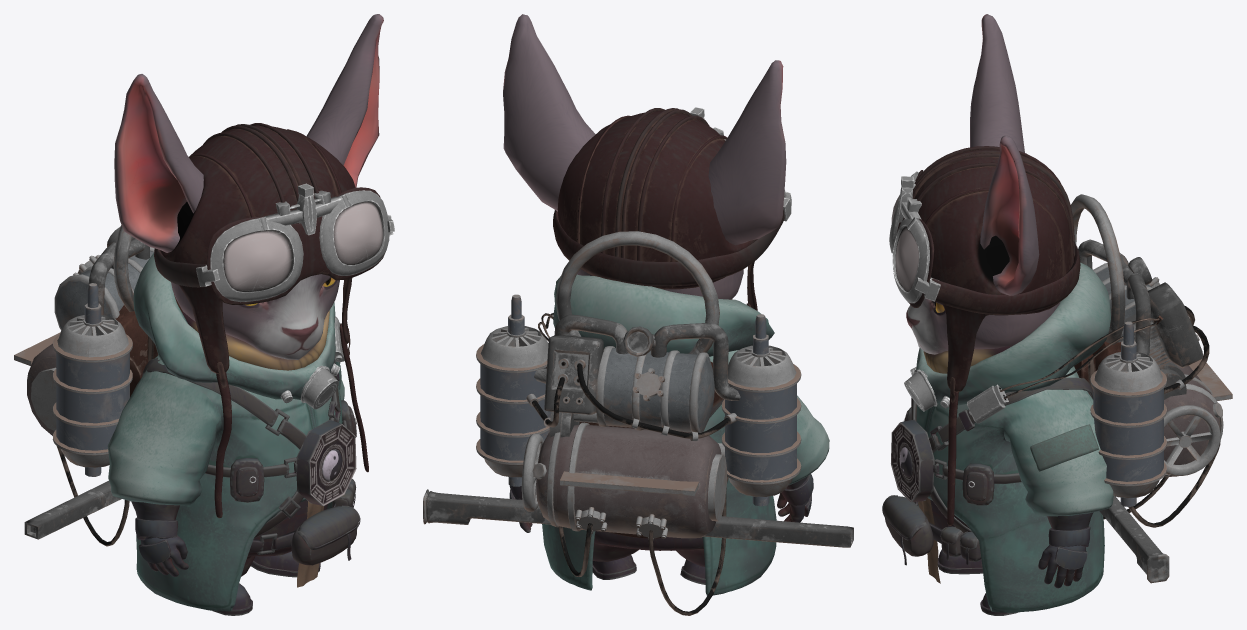
Rendered from cat_with_jet_pack.glb.
3 renders of one model, left to right at view 1: azimuth 30°, elevation 25°; view 2: azimuth 150°, elevation 25°; view 3: azimuth 270°, elevation 25°, orthographic. The views are drawn at different scales.
Visible parts, largest first — view 1: jacket_low, head_low, hat1_low, glasses_low, scarf1_low, airbag_engine5_low, octagon_low, belt_bag1_low, airbag_cylinder2_low, glasses_skin_low, weapon1_low, hat3_low (+27 smaller); view 2: head_low, hat1_low, airbag_cylinder1_low, airbag_engine5_low, jacket_low, scarf1_low, airbag_cylinder2_low, weapon1_low, glasses_belt_low, airbag_pipe4_low, airbag_controller_low, airbag_engine4_low (+23 smaller); view 3: jacket_low, hat1_low, head_low, scarf1_low, airbag_engine5_low, glasses_belt_low, glasses_low, airbag_controller_low, octagon_low, airbag_pipe4_low, airbag_valve_low, weapon1_low (+31 smaller).
Part boxes in pixels (left/top/right/bottom): jacket_low: left=107, top=355, right=344, bottom=611; head_low: left=114, top=14, right=383, bottom=359; hat1_low: left=160, top=123, right=355, bottom=373; glasses_low: left=210, top=190, right=389, bottom=302; scarf1_low: left=133, top=253, right=335, bottom=399; airbag_engine5_low: left=56, top=352, right=129, bottom=450; octagon_low: left=296, top=419, right=356, bottom=505; belt_bag1_low: left=291, top=506, right=359, bottom=565; airbag_cylinder2_low: left=54, top=247, right=154, bottom=330; glasses_skin_low: left=206, top=187, right=384, bottom=304; weapon1_low: left=24, top=480, right=121, bottom=539; hat3_low: left=214, top=323, right=368, bottom=518; head_low: left=503, top=14, right=786, bottom=299; hat1_low: left=557, top=108, right=757, bottom=310; airbag_cylinder1_low: left=536, top=424, right=721, bottom=538; airbag_engine5_low: left=480, top=364, right=796, bottom=480; jacket_low: left=542, top=350, right=829, bottom=595; scarf1_low: left=553, top=274, right=774, bottom=356; airbag_cylinder2_low: left=596, top=346, right=714, bottom=433; weapon1_low: left=423, top=489, right=853, bottom=547; glasses_belt_low: left=553, top=209, right=784, bottom=286; airbag_pipe4_low: left=556, top=231, right=719, bottom=354; airbag_controller_low: left=544, top=335, right=603, bottom=414; airbag_engine4_low: left=480, top=326, right=796, bottom=387; jacket_low: left=916, top=366, right=1113, bottom=612; hat1_low: left=912, top=146, right=1075, bottom=392; head_low: left=906, top=14, right=1060, bottom=354; scarf1_low: left=916, top=262, right=1110, bottom=405; airbag_engine5_low: left=1093, top=388, right=1163, bottom=481; glasses_belt_low: left=931, top=243, right=1080, bottom=314; glasses_low: left=889, top=171, right=929, bottom=303; airbag_controller_low: left=1148, top=282, right=1202, bottom=368; octagon_low: left=891, top=419, right=934, bottom=502; airbag_pipe4_low: left=1070, top=194, right=1125, bottom=344; airbag_valve_low: left=1164, top=405, right=1220, bottom=475; weapon1_low: left=1099, top=496, right=1169, bottom=583.
Size of the model in its own units: 0.2836 by 0.402 by 0.2469.
Materials: 3 (3 with a texture image).
